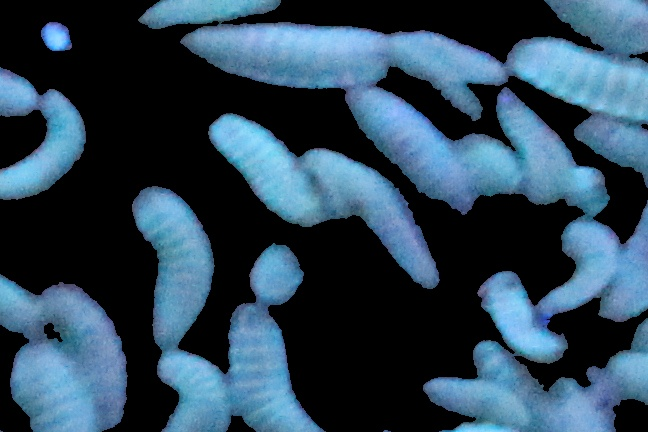larvae: (306, 146, 437, 290), (107, 174, 211, 352), (341, 87, 475, 201), (221, 300, 333, 432), (182, 22, 387, 89), (502, 30, 648, 118), (45, 285, 134, 422), (203, 111, 314, 218), (451, 270, 566, 366), (1, 92, 88, 206), (540, 216, 620, 318), (3, 344, 94, 430), (523, 1, 648, 58), (500, 85, 572, 182), (388, 25, 495, 84), (155, 354, 235, 430), (600, 197, 648, 322), (251, 226, 325, 306), (424, 372, 533, 424), (468, 339, 547, 403), (460, 131, 518, 212), (575, 114, 648, 174), (1, 270, 56, 345), (133, 1, 277, 28)
